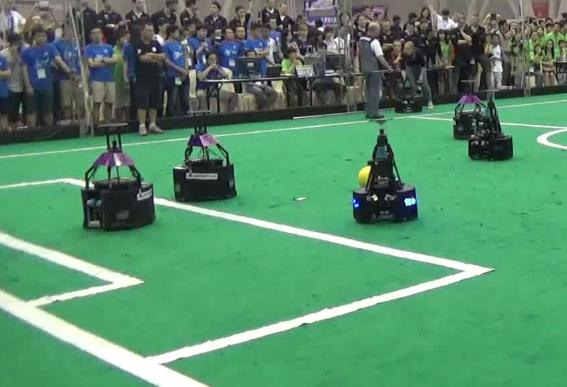robot: (76, 122, 158, 230), (349, 113, 421, 223), (171, 107, 239, 204), (466, 84, 514, 163)
